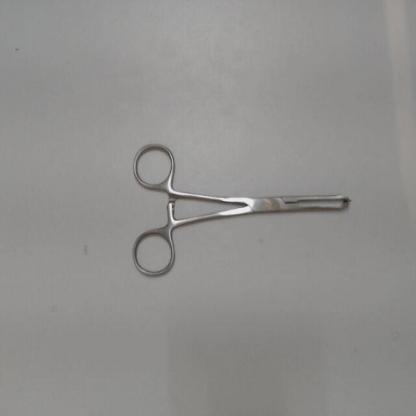Allis Tissue Forceps: (127, 134, 361, 290)
